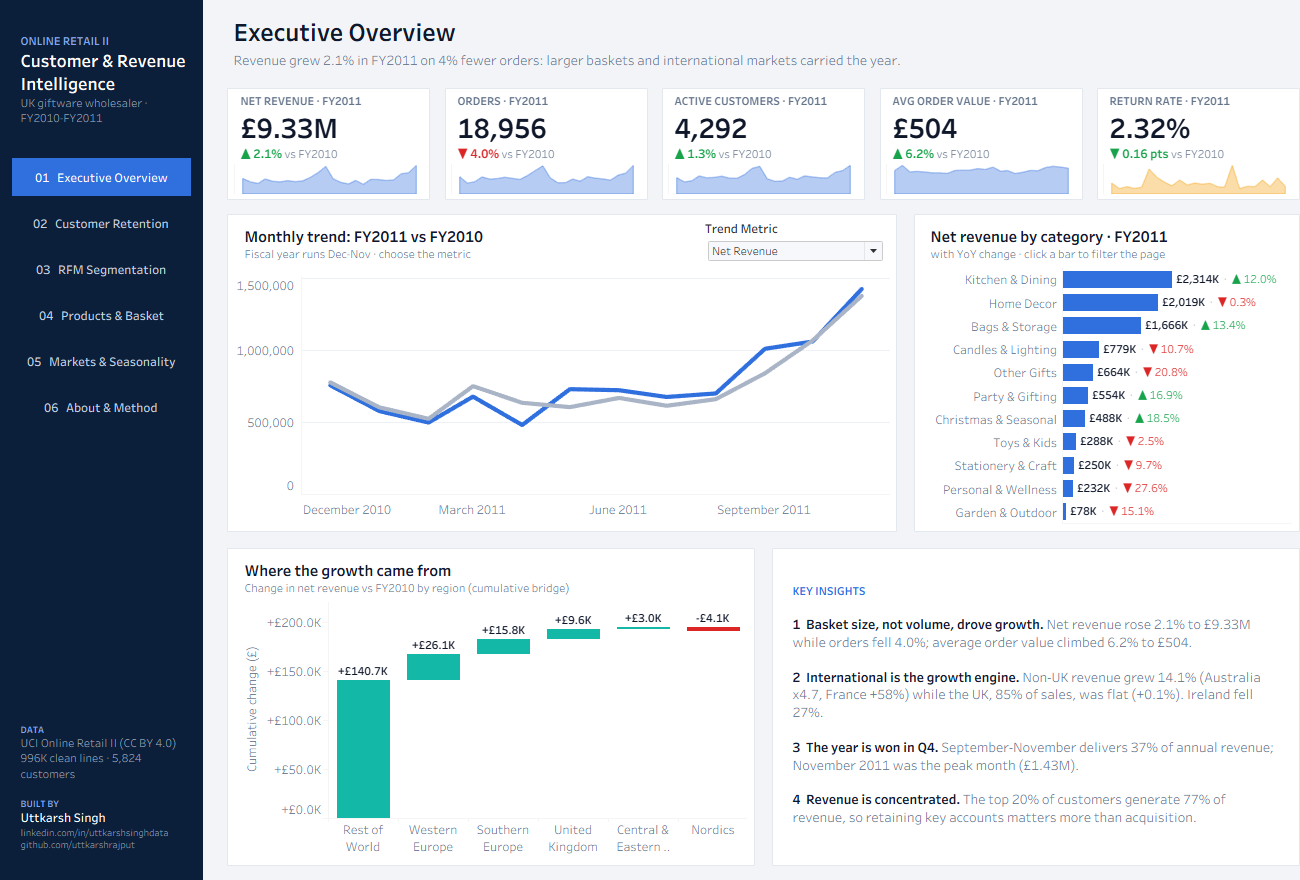

Layout of this report page (visuals, bound fields, positions):
{"tool":"tableau","page":{"name":"Executive Overview","canvas":[1300,880],"ordinal":0},"visuals":[{"type":"blank","box":[0,0,200,880]},{"type":"text","box":[224,14,820,34]},{"type":"text","box":[14,22,180,118]},{"type":"text","box":[224,48,980,24]},{"type":"blank","box":[224,88,200,112]},{"type":"blank","box":[438,88,200,112]},{"type":"blank","box":[652,88,200,112]},{"type":"blank","box":[866,88,200,112]},{"type":"blank","box":[1080,88,200,112]},{"type":"worksheet","title":"KPI Net Revenue","mark":"Text","box":[232,94,184,70]},{"type":"worksheet","title":"KPI Orders","mark":"Text","box":[446,94,184,70]},{"type":"worksheet","title":"KPI Customers","mark":"Text","box":[660,94,184,70]},{"type":"worksheet","title":"KPI AOV","mark":"Text","box":[874,94,184,70]},{"type":"worksheet","title":"KPI Return Rate","mark":"Text","box":[1088,94,184,70]},{"type":"dashboard-object","box":[12,158,176,38]},{"type":"worksheet","title":"Spark Net Revenue","mark":"Area","rows":["Calculation_1692587521312325413"],"cols":["Invoice Date"],"box":[230,164,188,30]},{"type":"worksheet","title":"Spark Orders","mark":"Area","rows":["Calculation_1013989091762845951"],"cols":["Invoice Date"],"box":[444,164,188,30]},{"type":"worksheet","title":"Spark Customers","mark":"Area","rows":["Calculation_1439245819252727805"],"cols":["Invoice Date"],"box":[658,164,188,30]},{"type":"worksheet","title":"Spark AOV","mark":"Area","rows":["Calculation_1329451606897543904"],"cols":["Invoice Date"],"box":[872,164,188,30]},{"type":"worksheet","title":"Spark Return Rate","mark":"Area","rows":["Calculation_1477744696104706571"],"cols":["Invoice Date"],"box":[1086,164,188,30]},{"type":"dashboard-object","box":[12,204,176,38]},{"type":"blank","box":[224,214,660,318]},{"type":"blank","box":[900,214,380,318]},{"type":"parameter","param":"[Parameters].[Parameter 1]","box":[692,218,182,52]},{"type":"text","box":[234,222,440,44]},{"type":"text","box":[910,222,360,44]},{"type":"legend","title":"Monthly Trend","param":"[federated.0q7799243600930394697339726a].[none:Calculation_2996139964207329472:n","box":[474,248,200,22]},{"type":"dashboard-object","box":[12,250,176,38]},{"type":"worksheet","title":"Category Revenue","mark":"Bar","rows":["Category"],"cols":["Calculation_1009195715376662578"],"box":[908,268,364,256]},{"type":"worksheet","title":"Monthly Trend","mark":"Line","rows":["Calculation_2743027773634814688"],"cols":["Calculation_1526935355992823633"],"box":[232,276,644,248]},{"type":"dashboard-object","box":[12,296,176,38]},{"type":"dashboard-object","box":[12,342,176,38]},{"type":"dashboard-object","box":[12,388,176,38]},{"type":"blank","box":[224,548,520,318]},{"type":"blank","box":[760,548,520,318]},{"type":"text","box":[234,556,500,44]},{"type":"text","box":[774,556,492,300]},{"type":"worksheet","title":"Revenue Bridge by Region","mark":"GanttBar","rows":["Calculation_1573739439358800400"],"cols":["Region"],"box":[232,602,504,256]},{"type":"text","box":[14,712,180,156]}]}

Visuals, with their boxes in screenshot pixels (x1, y1, x2, y2), scaled from the page's 1300x880 canvas onto the 1300x880 screenshot:
blank: crop(0, 0, 200, 879)
text: crop(224, 14, 1044, 48)
text: crop(14, 22, 194, 140)
text: crop(224, 48, 1204, 72)
blank: crop(224, 88, 424, 200)
blank: crop(438, 88, 638, 200)
blank: crop(652, 88, 852, 200)
blank: crop(866, 88, 1066, 200)
blank: crop(1080, 88, 1280, 200)
"KPI Net Revenue" worksheet (Text marks): crop(232, 94, 416, 164)
"KPI Orders" worksheet (Text marks): crop(446, 94, 630, 164)
"KPI Customers" worksheet (Text marks): crop(660, 94, 844, 164)
"KPI AOV" worksheet (Text marks): crop(874, 94, 1058, 164)
"KPI Return Rate" worksheet (Text marks): crop(1088, 94, 1272, 164)
dashboard-object: crop(12, 158, 188, 196)
"Spark Net Revenue" worksheet (Area marks): crop(230, 164, 418, 194)
"Spark Orders" worksheet (Area marks): crop(444, 164, 632, 194)
"Spark Customers" worksheet (Area marks): crop(658, 164, 846, 194)
"Spark AOV" worksheet (Area marks): crop(872, 164, 1060, 194)
"Spark Return Rate" worksheet (Area marks): crop(1086, 164, 1274, 194)
dashboard-object: crop(12, 204, 188, 242)
blank: crop(224, 214, 884, 532)
blank: crop(900, 214, 1280, 532)
parameter: crop(692, 218, 874, 270)
text: crop(234, 222, 674, 266)
text: crop(910, 222, 1270, 266)
"Monthly Trend" legend: crop(474, 248, 674, 270)
dashboard-object: crop(12, 250, 188, 288)
"Category Revenue" worksheet (Bar marks): crop(908, 268, 1272, 524)
"Monthly Trend" worksheet (Line marks): crop(232, 276, 876, 524)
dashboard-object: crop(12, 296, 188, 334)
dashboard-object: crop(12, 342, 188, 380)
dashboard-object: crop(12, 388, 188, 426)
blank: crop(224, 548, 744, 866)
blank: crop(760, 548, 1280, 866)
text: crop(234, 556, 734, 600)
text: crop(774, 556, 1266, 856)
"Revenue Bridge by Region" worksheet (GanttBar marks): crop(232, 602, 736, 858)
text: crop(14, 712, 194, 868)
